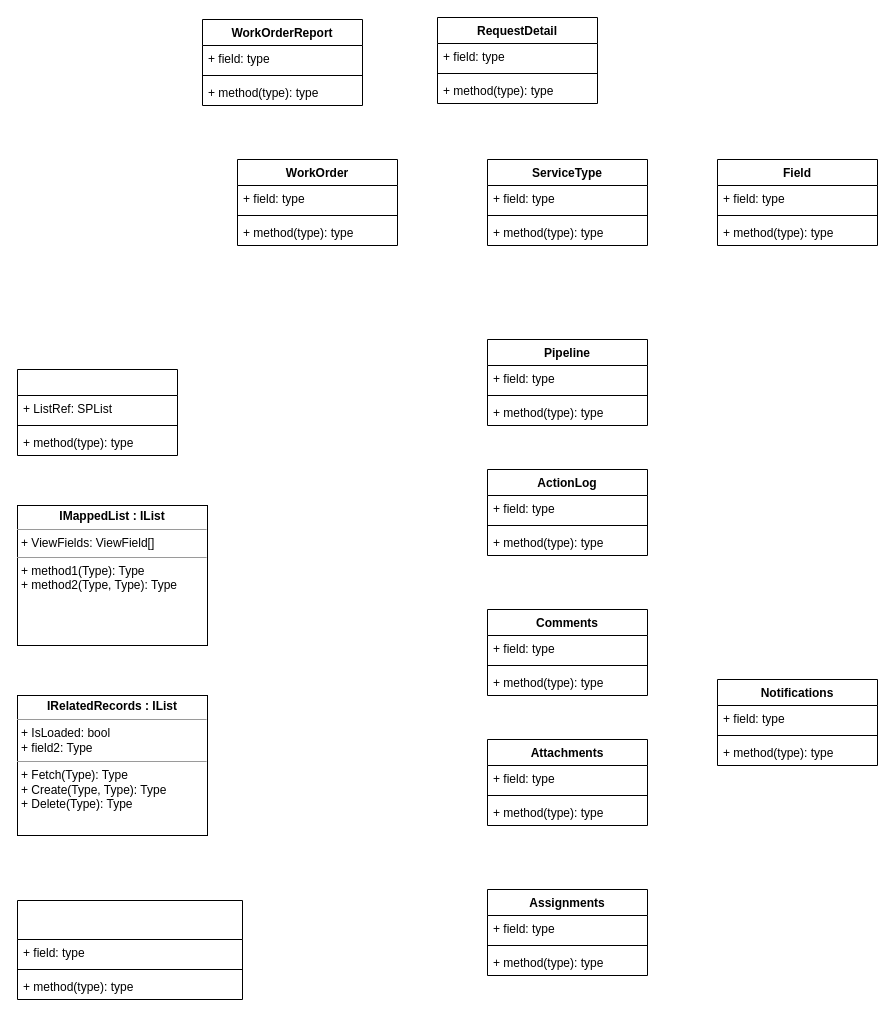
The diagram is 895 pixels wide and 1020 high, and some of its shapes have lost their labels. The shapes that lost their labels are listed below. From the top down, each one's box as (x1, y1, x2, y2) in pixels, then its label:
(16, 368, 178, 456): IList
(16, 900, 242, 1000): BasicRelatedRecord IRelatedRecords
